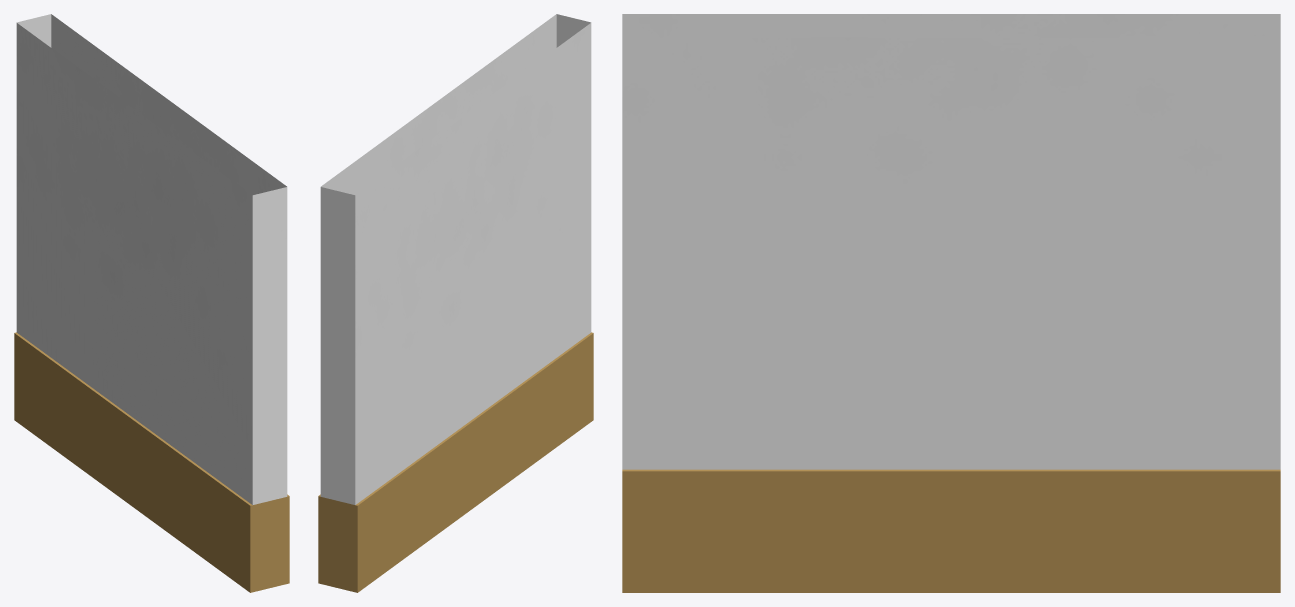
File: room_wall_B.fbx
3 renders of one model, left to right at view 1: azimuth 30°, elevation 25°; view 2: azimuth 150°, elevation 25°; view 3: azimuth 270°, elevation 25°, orthographic. The views are drawn at different scales.
Parts seen in each view (by area): view 1: pCube49; view 2: pCube49; view 3: pCube49.
Part boxes in pixels (left/top/right/bottom): pCube49: left=14, top=14, right=289, bottom=592; pCube49: left=318, top=14, right=593, bottom=592; pCube49: left=622, top=14, right=1280, bottom=592.
Size of the model in its own units: 1.71 by 16.44 by 17.72.
Materials: 1 (1 with a texture image).
